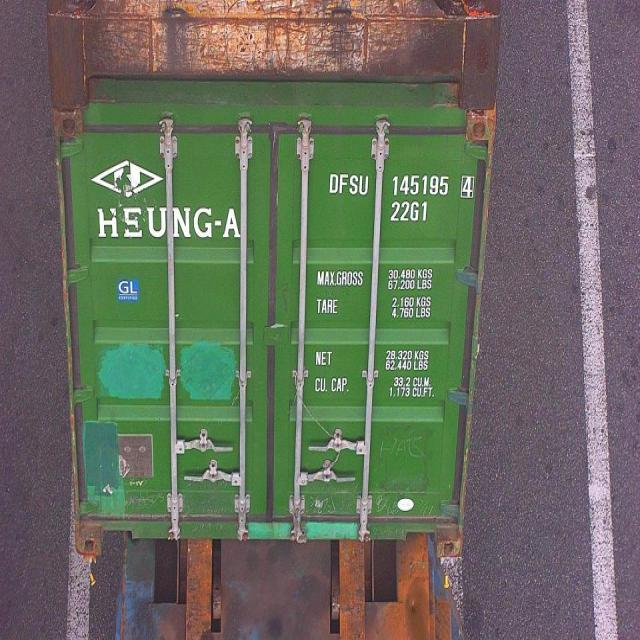ISO: (389, 198, 431, 222)
container_number: (330, 174, 480, 198)
